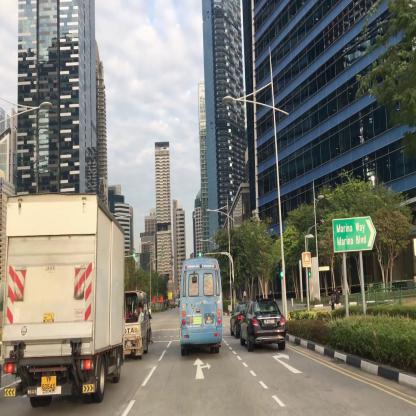green_traffic_light: (278, 255, 285, 280), (198, 250, 207, 257), (132, 251, 140, 257)
